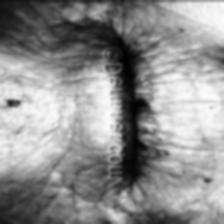Unclassified: (6, 96, 24, 108), (220, 52, 224, 64)
